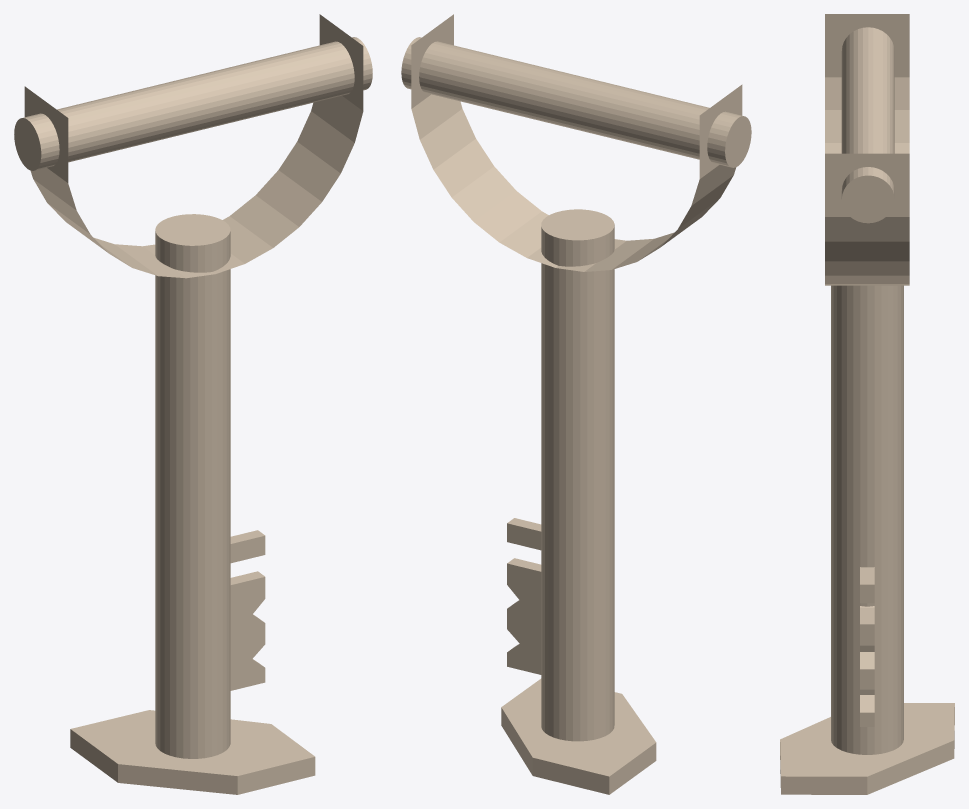
The model's file is False key 2.glb.
3 views of the same model, side by side, from view 1: azimuth 30°, elevation 25°; view 2: azimuth 150°, elevation 25°; view 3: azimuth 270°, elevation 25° (orthographic). The views are drawn at different scales.
Parts seen in each view (by area): view 1: Cylinder, Cylinder.001, Cylinder.002, Plane.003, Plane.004; view 2: Cylinder, Cylinder.001, Cylinder.002, Plane.003, Plane.004; view 3: Cylinder, Cylinder.002, Plane.003, Cylinder.001, Plane.004.
Boxes of the visible parts, box(x1,y1,x2,y2) form: Cylinder: box(155, 214, 230, 758); Cylinder.001: box(14, 37, 372, 170); Cylinder.002: box(24, 14, 363, 278); Plane.003: box(70, 710, 315, 794); Plane.004: box(230, 530, 265, 690); Cylinder: box(541, 209, 614, 741); Cylinder.001: box(401, 37, 751, 167); Cylinder.002: box(411, 14, 742, 271); Plane.003: box(501, 678, 656, 794); Plane.004: box(507, 518, 541, 674); Cylinder: box(831, 285, 903, 754); Cylinder.002: box(825, 14, 909, 285); Plane.003: box(780, 703, 954, 794); Cylinder.001: box(841, 27, 894, 223); Plane.004: box(860, 567, 874, 726).
Bounding box in the file's own units: 0.1809 × 0.3629 × 0.0852.
